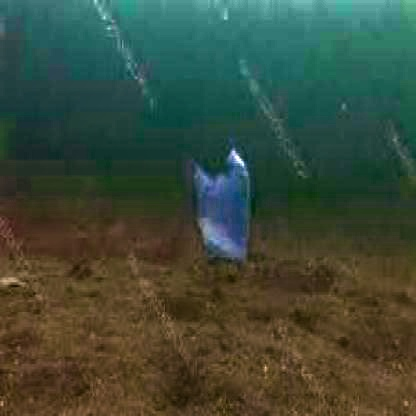pbag: (190, 149, 251, 265)
